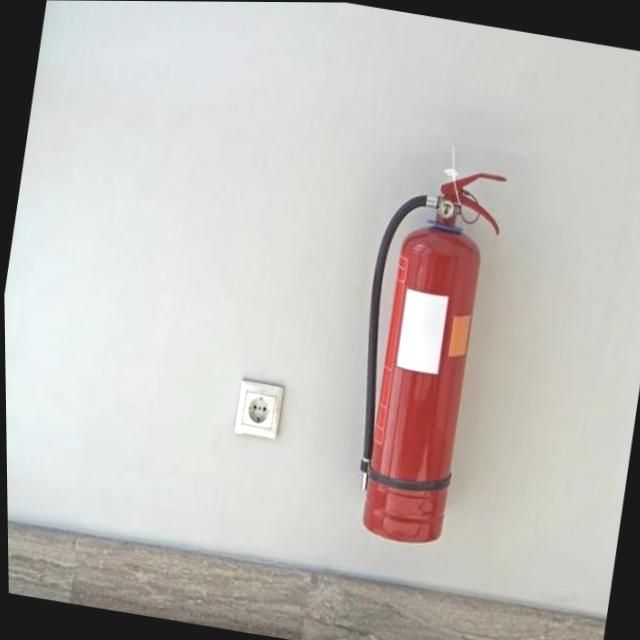FireExtinguisher: (325, 145, 518, 556)
